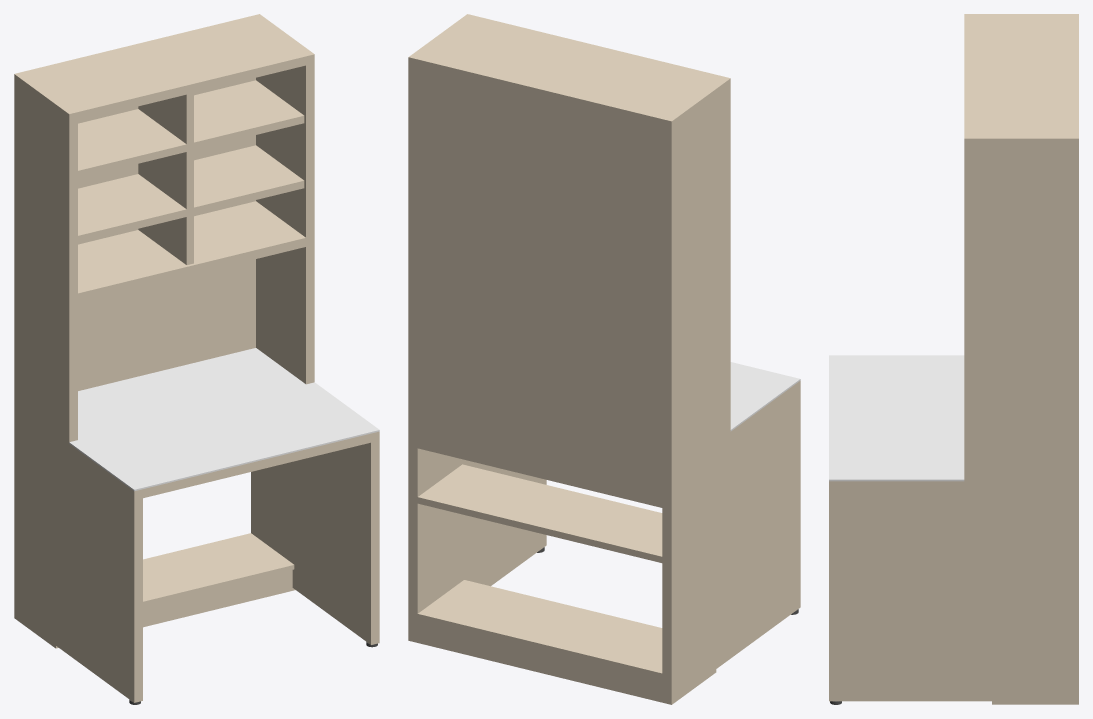
Rendered from 503_デスク.glb.
3 views of the same model, side by side, from view 1: azimuth 30°, elevation 25°; view 2: azimuth 150°, elevation 25°; view 3: azimuth 270°, elevation 25° (orthographic). The views are drawn at different scales.
Parts seen in each view (by area): view 1: Body; view 2: Body; view 3: Body.
Boxes of the visible parts, x1,y1,x2,y2 form: Body: (14,14,379,704); Body: (408,14,800,704); Body: (829,14,1078,704).
Bounding box in the file's own units: 0.8551 × 1.8 × 0.72.
